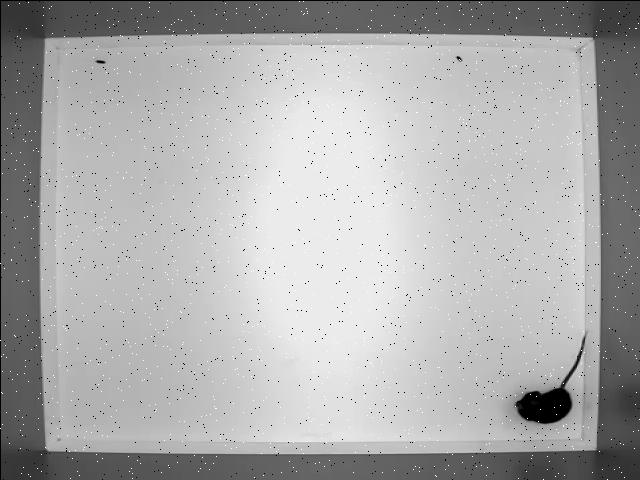Tikus: (497, 330, 594, 430)
